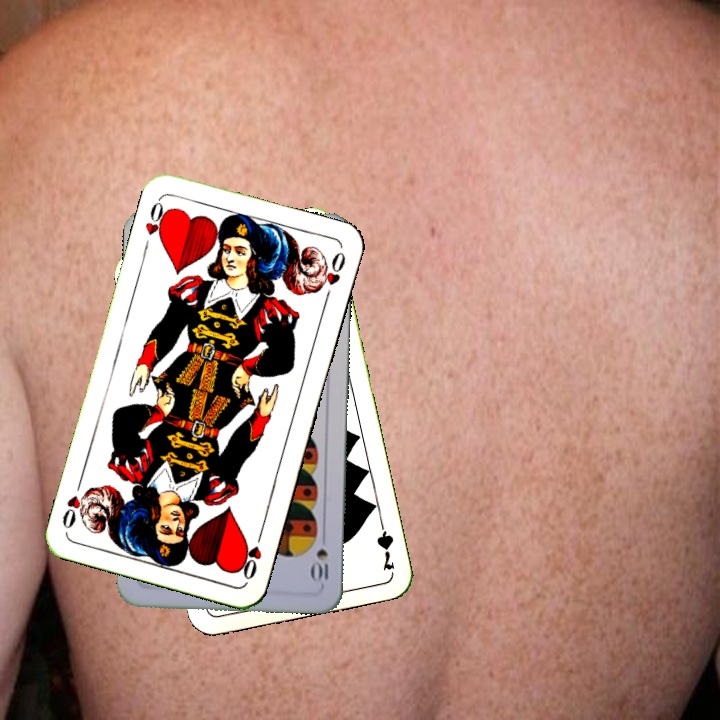G7: (372, 514, 397, 573)
HO: (235, 526, 266, 583), (141, 195, 172, 244)
S10: (309, 544, 331, 587)
